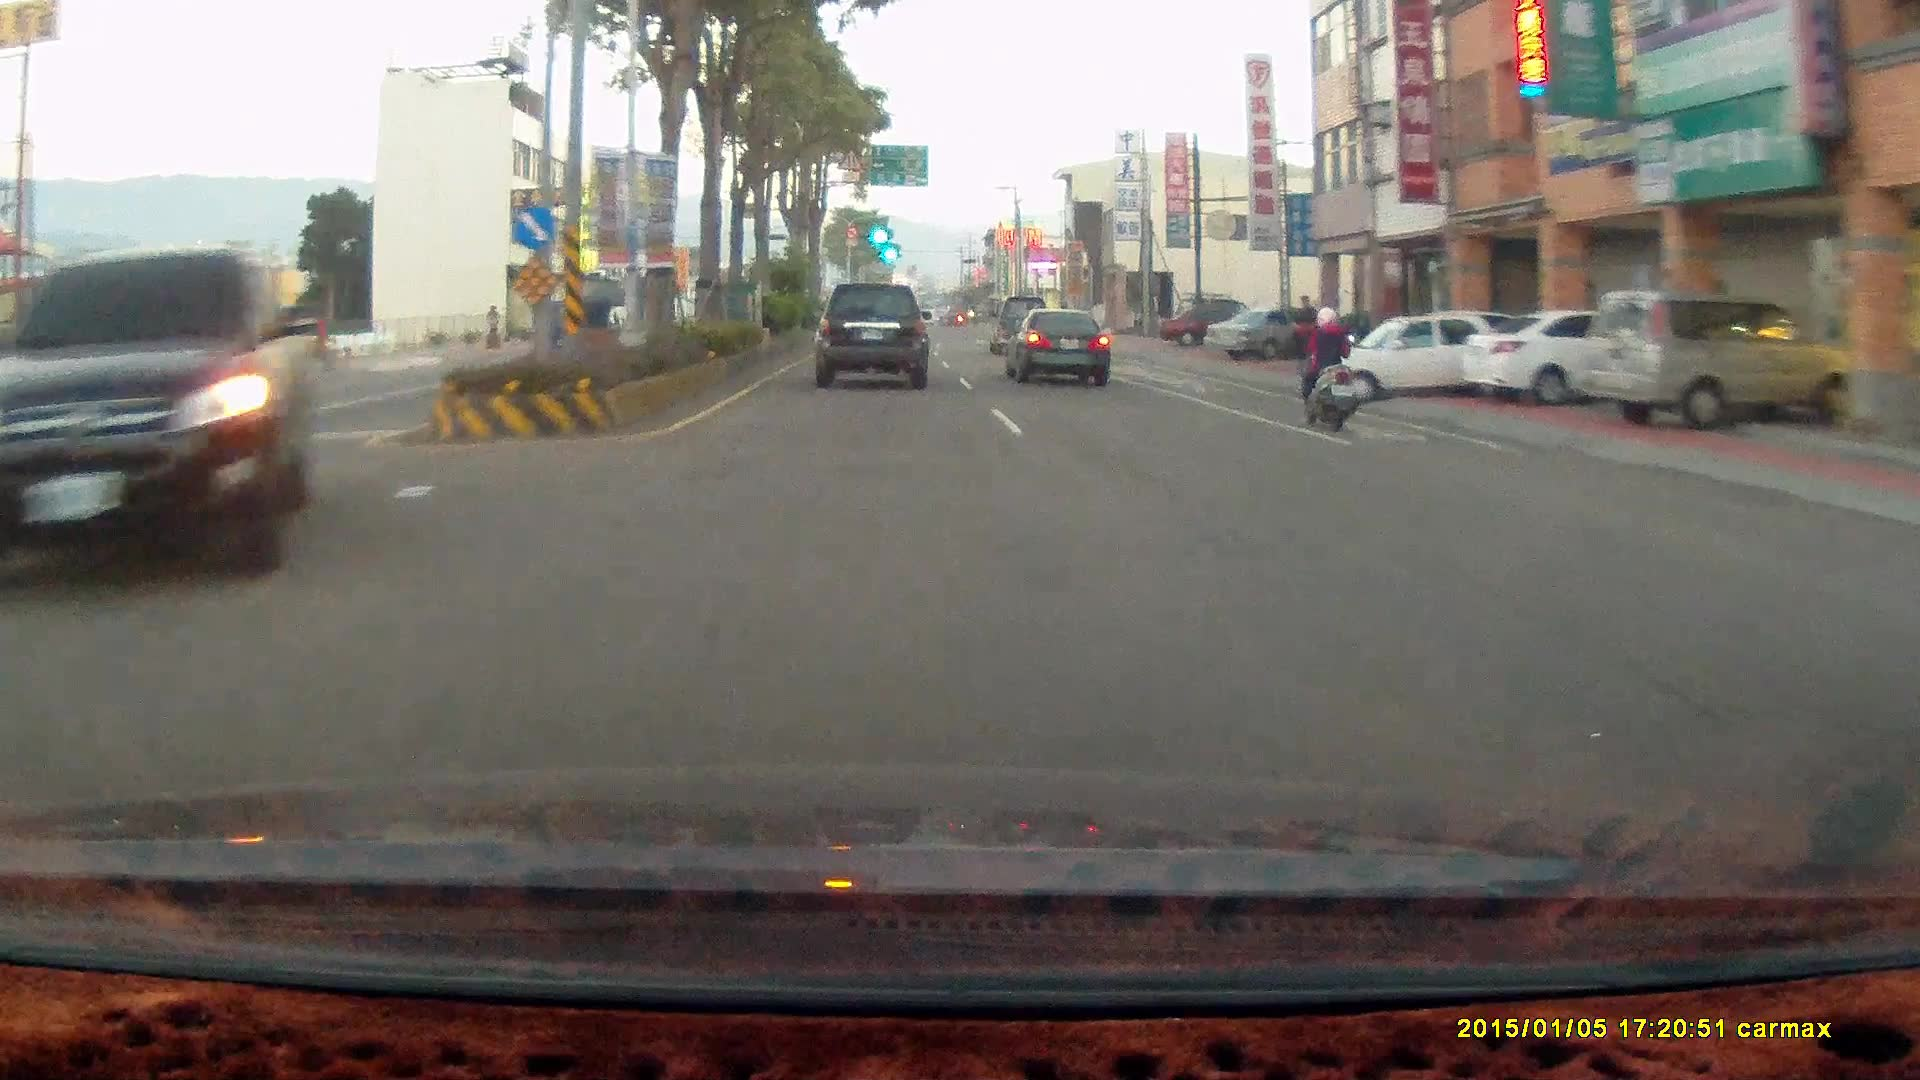pedestrian: (1289, 292, 1322, 373)
rider: (1287, 295, 1375, 440), (1293, 301, 1358, 429)
vehicle: (0, 247, 325, 589), (1, 247, 318, 592), (1581, 291, 1857, 439), (1578, 286, 1859, 428), (1460, 304, 1710, 406), (1302, 311, 1542, 410), (1457, 302, 1669, 403), (1301, 310, 1516, 405), (814, 283, 933, 392), (815, 283, 931, 392), (1007, 309, 1122, 387), (1004, 306, 1108, 386), (1206, 304, 1332, 361), (1206, 307, 1331, 363), (1159, 306, 1270, 346), (986, 294, 1052, 354)
